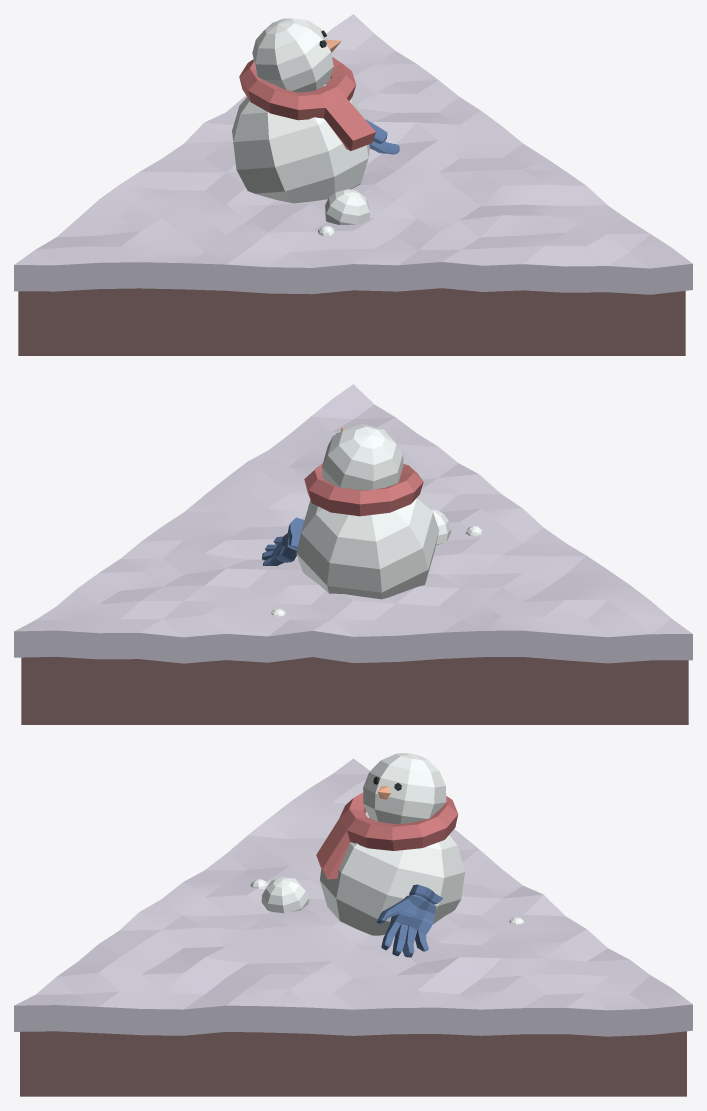
Rendered from TILE_05_02_Snow.fbx.
3 renders of one model, top to bottom at view 1: azimuth 30°, elevation 25°; view 2: azimuth 150°, elevation 25°; view 3: azimuth 270°, elevation 25°, orthographic.
Visible parts, largest first — view 1: TILESURFACE9, TILE6, pSphere4, pTorus1, pSphere5, pSphere6, pCube31; view 2: TILESURFACE9, TILE6, pSphere4, pSphere5, pTorus1, pCube31; view 3: TILESURFACE9, TILE6, pSphere4, pTorus1, pSphere5, pCube31, pSphere6.
Boxes of the visible parts, left/top/right/bottom form: TILESURFACE9: left=14, top=14, right=692, bottom=294; TILE6: left=18, top=288, right=685, bottom=355; pSphere4: left=232, top=84, right=369, bottom=203; pTorus1: left=239, top=57, right=375, bottom=150; pSphere5: left=252, top=18, right=333, bottom=92; pSphere6: left=325, top=189, right=369, bottom=224; pCube31: left=365, top=119, right=399, bottom=154; TILESURFACE9: left=14, top=384, right=692, bottom=663; TILE6: left=21, top=656, right=688, bottom=724; pSphere4: left=296, top=496, right=439, bottom=599; pSphere5: left=322, top=424, right=403, bottom=490; pTorus1: left=304, top=463, right=423, bottom=516; pCube31: left=262, top=517, right=304, bottom=565; TILESURFACE9: left=14, top=758, right=692, bottom=1036; TILE6: left=20, top=1031, right=686, bottom=1096; pSphere4: left=320, top=811, right=464, bottom=935; pTorus1: left=316, top=792, right=458, bottom=879; pSphere5: left=363, top=753, right=446, bottom=823; pCube31: left=376, top=884, right=442, bottom=957; pSphere6: left=261, top=877, right=308, bottom=913.
Bounding box in the file's own units: 153 × 69.41 × 176.
